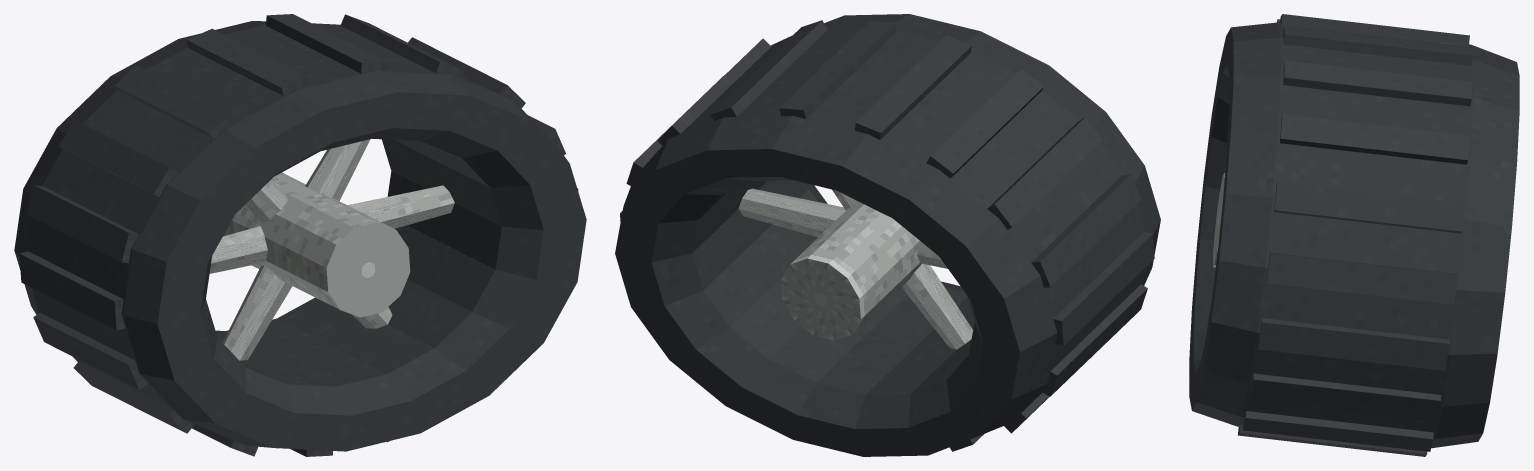
File: deflated_wheel_wide.glb
The picture shows the model from 3 angles, left to right: view 1: azimuth 30°, elevation 25°; view 2: azimuth 150°, elevation 25°; view 3: azimuth 270°, elevation 25°; orthographic projection. The views are drawn at different scales.
Parts seen in each view (by area): view 1: block_wheel cross section, block_tread block (×10), block_wheel hub, block_radial spoke (×5); view 2: block_wheel cross section, block_tread block (×10), block_wheel hub, block_radial spoke (×2); view 3: block_wheel cross section, block_tread block (×10), block_wheel hub.
Part boxes in pixels (x1,y1,x2,y2): block_wheel cross section: (14,21,586,451); block_tread block (×10): (19,14,525,433); block_wheel hub: (223,172,410,317); block_radial spoke (×5): (209,139,454,360); block_wheel cross section: (615,14,1160,456); block_tread block (×10): (626,20,1154,396); block_wheel hub: (781,203,921,340); block_radial spoke (×2): (738,188,972,349); block_wheel cross section: (1189,22,1519,448); block_tread block (×10): (1237,14,1472,456); block_wheel hub: (1213,173,1225,267).
Bounding box in the file's own units: 0.61 × 0.4811 × 0.383.
1 material, 1 textured.
